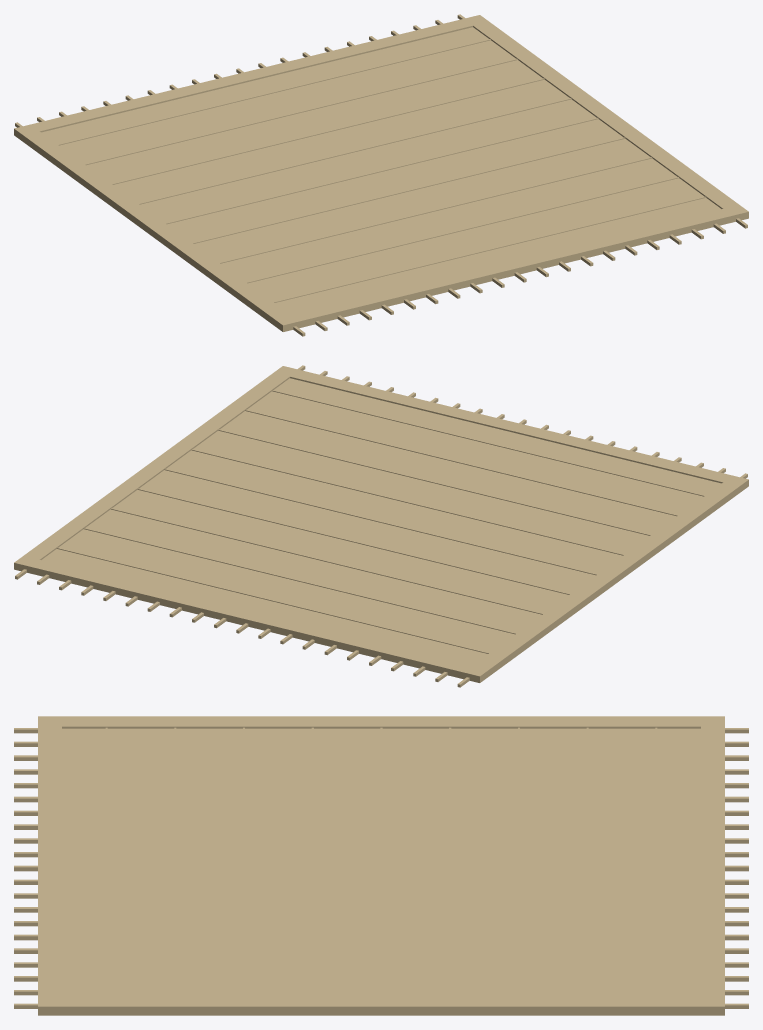
File: jutemat.glb
3 views of the same model, one above another, from view 1: azimuth 30°, elevation 25°; view 2: azimuth 150°, elevation 25°; view 3: azimuth 270°, elevation 25° (orthographic). The views are drawn at different scales.
Visible parts, largest first — view 1: Mat; view 2: Mat; view 3: Mat.
Part boxes in pixels (x1=…): Mat: x1=14, y1=14, x2=748, y2=336; Mat: x1=14, y1=365, x2=748, y2=687; Mat: x1=14, y1=716, x2=748, y2=1015.
Size of the model in its own units: 2 by 0.028 by 2.14.
